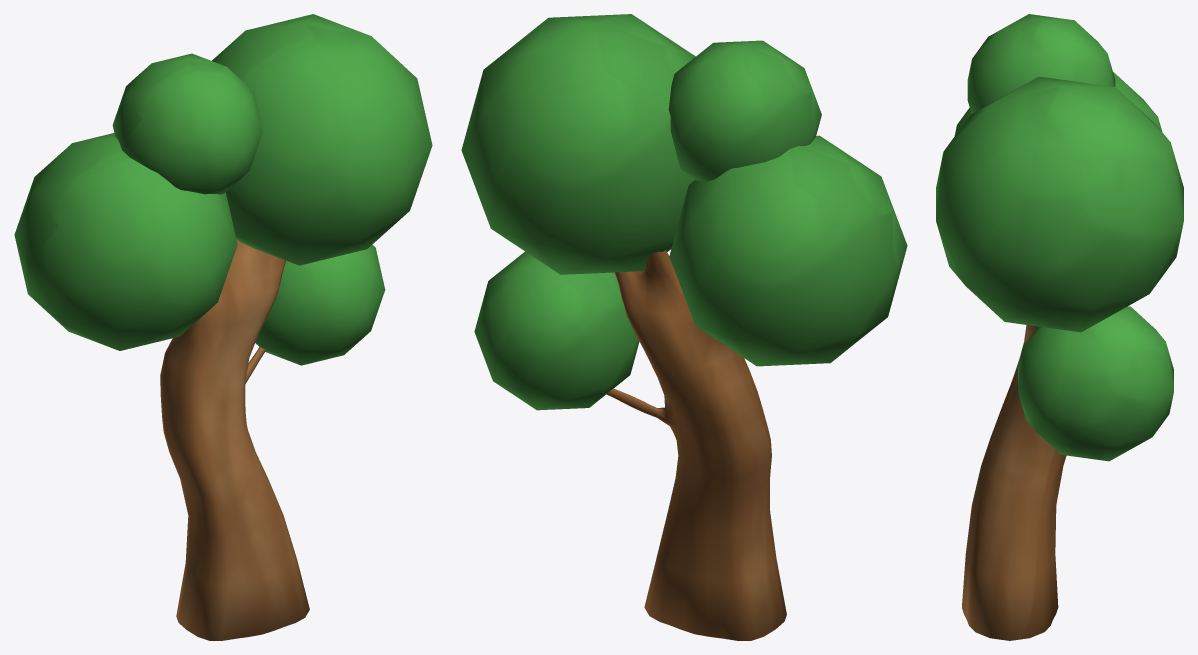
Rendered from tree1.fbx.
The picture shows the model from 3 angles, left to right: view 1: azimuth 30°, elevation 25°; view 2: azimuth 150°, elevation 25°; view 3: azimuth 270°, elevation 25°; orthographic projection. The views are drawn at different scales.
Parts seen in each view (by area): view 1: Tree1; view 2: Tree1; view 3: Tree1.
Part boxes in pixels (box(x1,y1,x2,y2)): Tree1: box(14, 14, 432, 640); Tree1: box(461, 14, 907, 640); Tree1: box(936, 14, 1183, 640).
Size of the model in its own units: 509 by 697 by 275.
